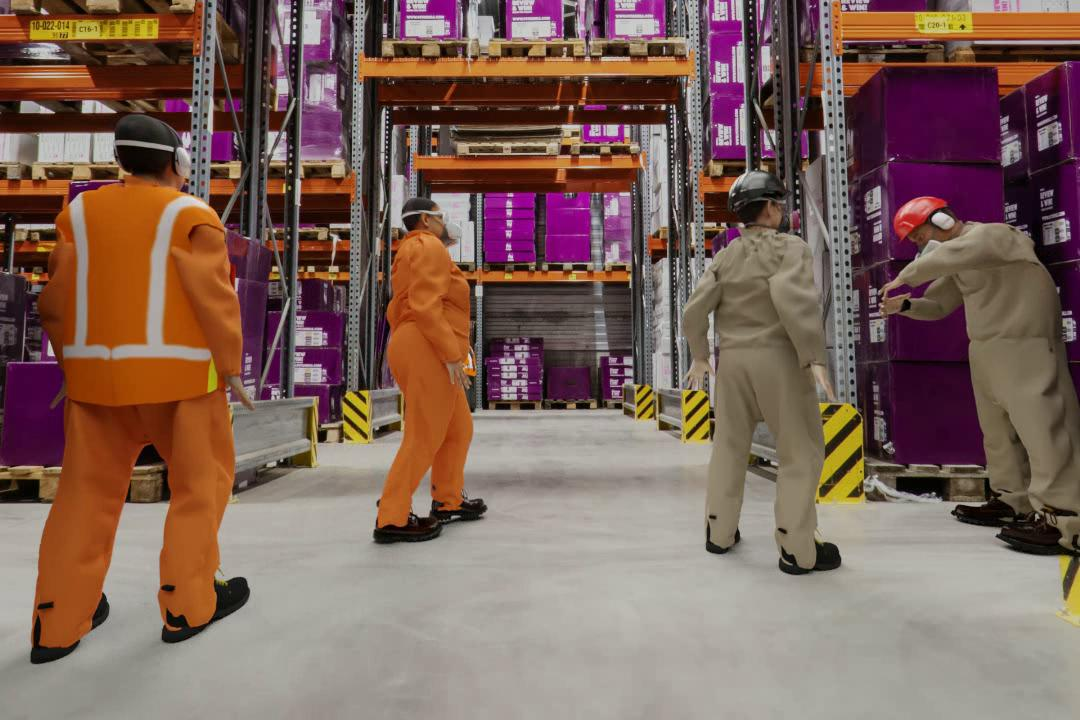Helmet: (890, 192, 968, 238), (721, 170, 789, 207)
Jacket: (62, 187, 211, 401)
Shoes: (23, 588, 112, 667), (160, 573, 253, 647), (999, 518, 1079, 560), (377, 503, 440, 550), (952, 491, 1027, 523), (780, 537, 843, 575), (435, 497, 488, 519)
